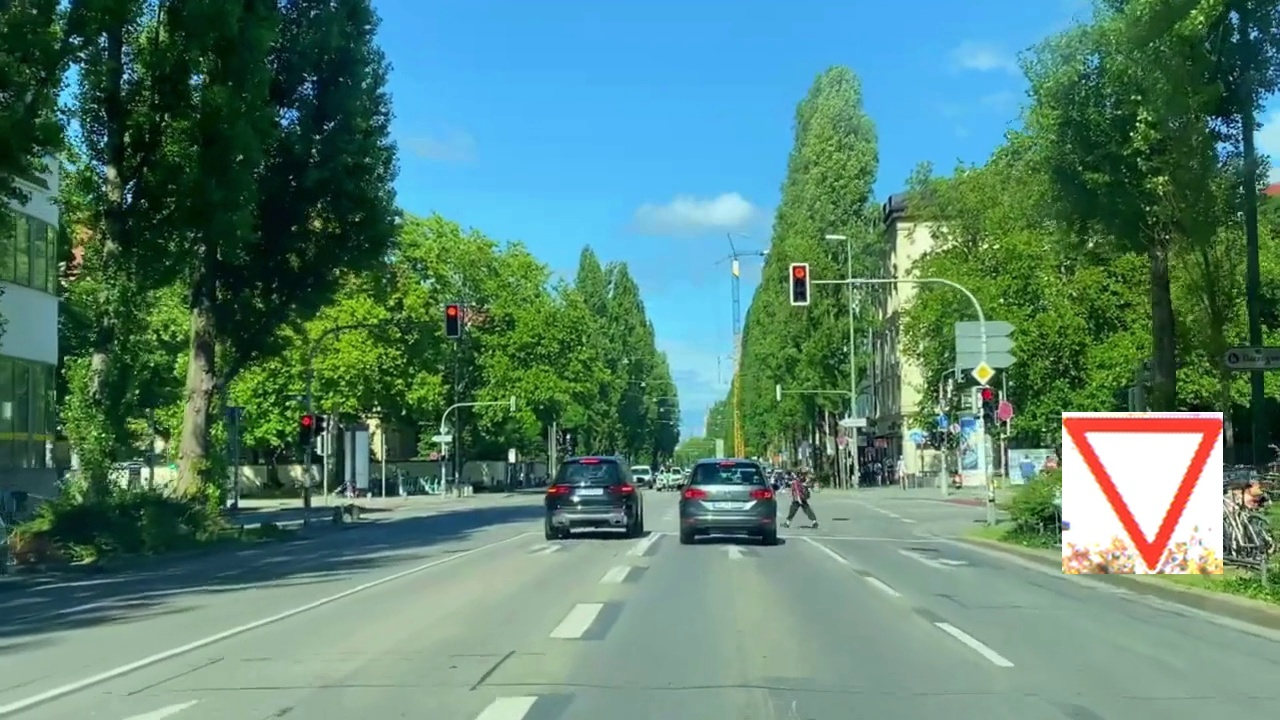Yield: (1062, 412, 1223, 574)
